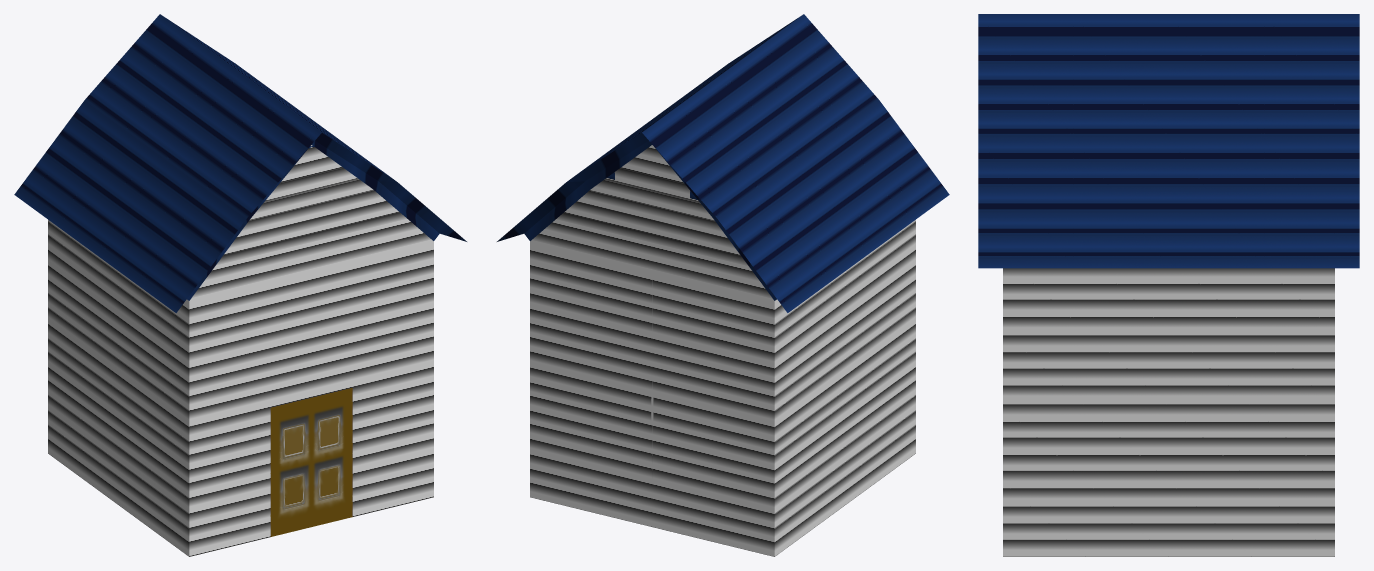
The model's file is simpleHouse.fbx.
The picture shows the model from 3 angles, left to right: view 1: azimuth 30°, elevation 25°; view 2: azimuth 150°, elevation 25°; view 3: azimuth 270°, elevation 25°; orthographic projection. The views are drawn at different scales.
Visible parts, largest first — view 1: Cube; view 2: Cube; view 3: Cube.
Boxes of the visible parts, bbox=[...] form: Cube: bbox=[14, 14, 466, 556]; Cube: bbox=[497, 14, 949, 556]; Cube: bbox=[978, 14, 1359, 556].
Bounding box in the file's own units: 238 × 314 × 230.
